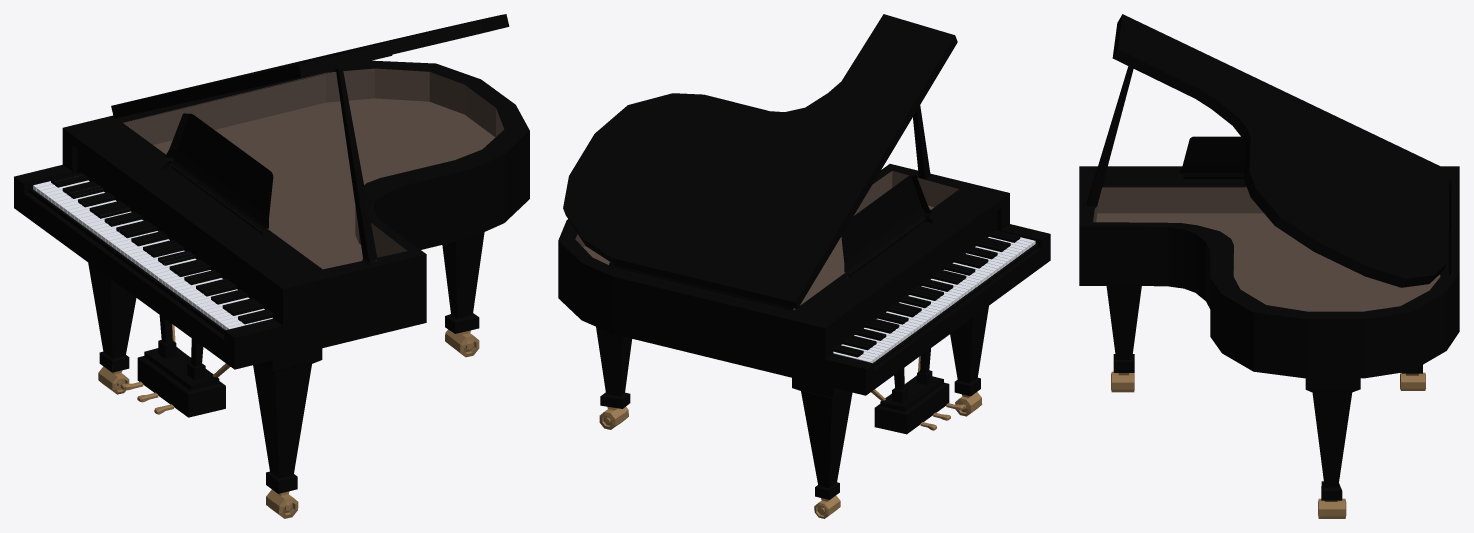
File: GrandPiano.fbx
3 renders of one model, left to right at view 1: azimuth 30°, elevation 25°; view 2: azimuth 150°, elevation 25°; view 3: azimuth 270°, elevation 25°, orthographic. The views are drawn at different scales.
Parts seen in each view (by area): view 1: Cube.001; view 2: Cube.001; view 3: Cube.001.
Part boxes in pixels (x1,y1,x2,y2): Cube.001: (14, 14, 529, 518); Cube.001: (558, 14, 1050, 518); Cube.001: (1079, 14, 1459, 518).
Size of the model in its own units: 855 by 887 by 793.
Materials: 1 (1 with a texture image).
